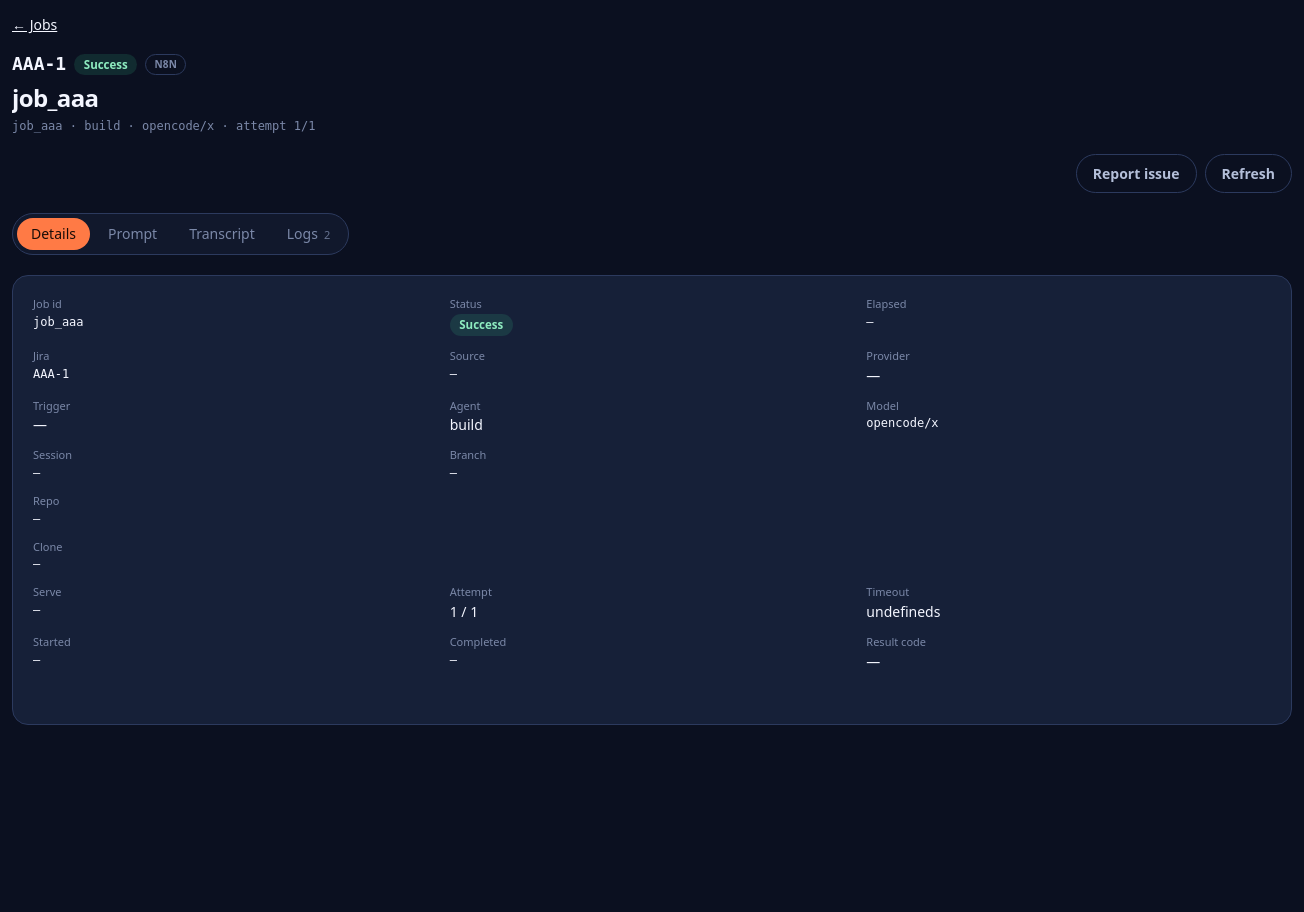
Test: JobDetailPage › shows the serve log under the job log on the Logs tab
expect the heading "job_aaa" is shown: met, box x1=12 y1=81 x2=98 y2=114
Click the button "Logs2". click: click(308, 234)
box: x1=273 y1=218 x2=344 y2=250
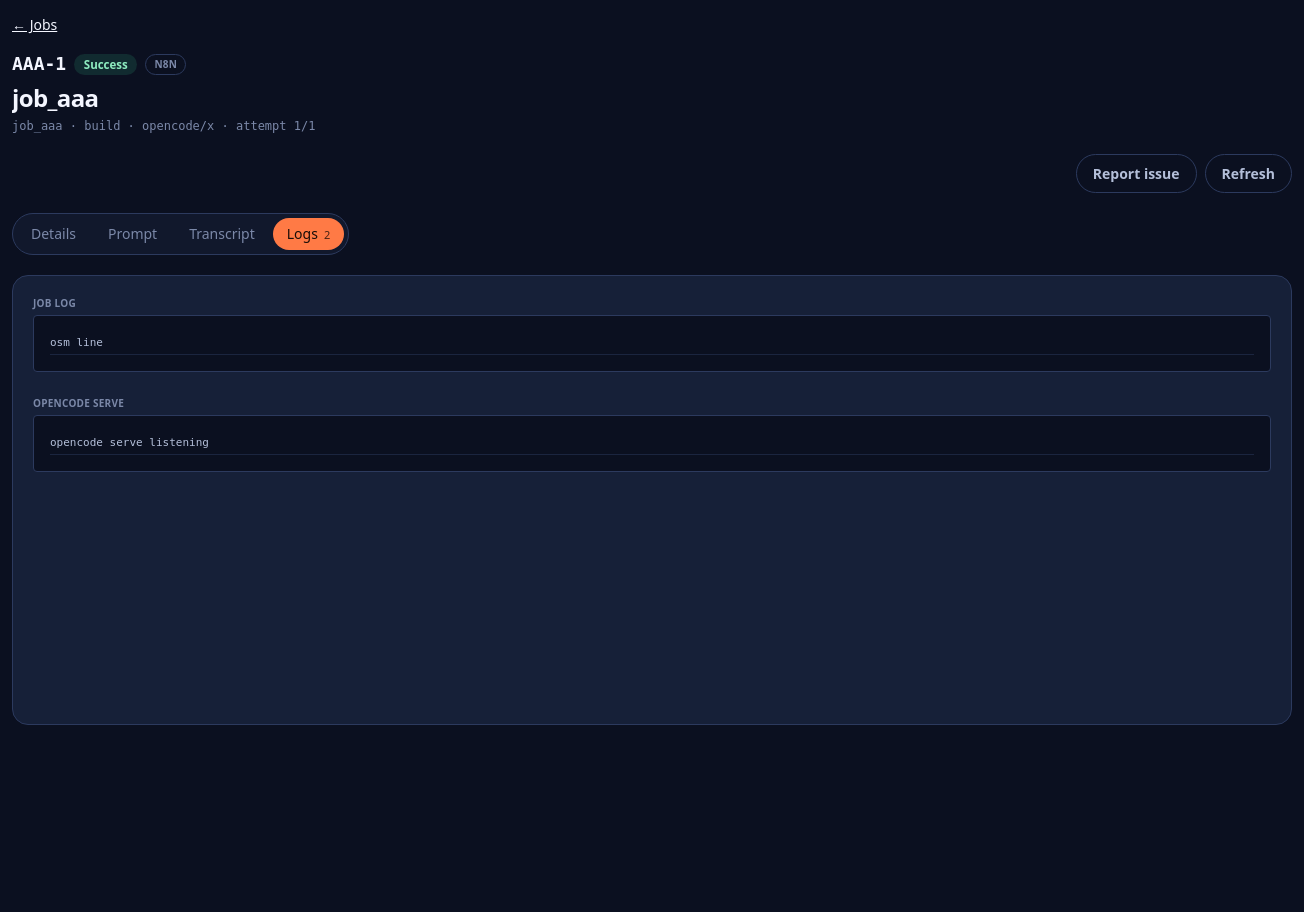
expect the text "Job log" is shown: met, box x1=33 y1=296 x2=76 y2=310
expect the text "osm line" is shown: met, box x1=50 y1=332 x2=1254 y2=355
expect the text "OpenCode serve" is shown: met, box x1=33 y1=396 x2=124 y2=410
